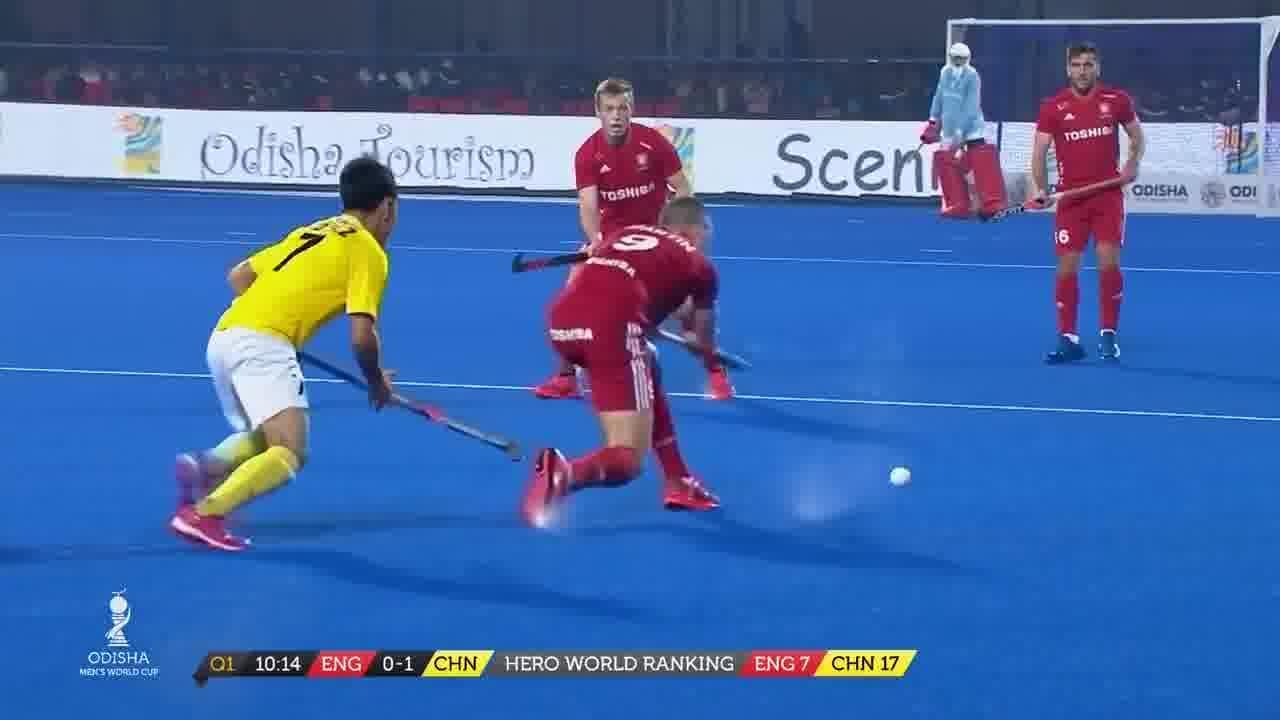ball: (884, 458, 916, 494)
